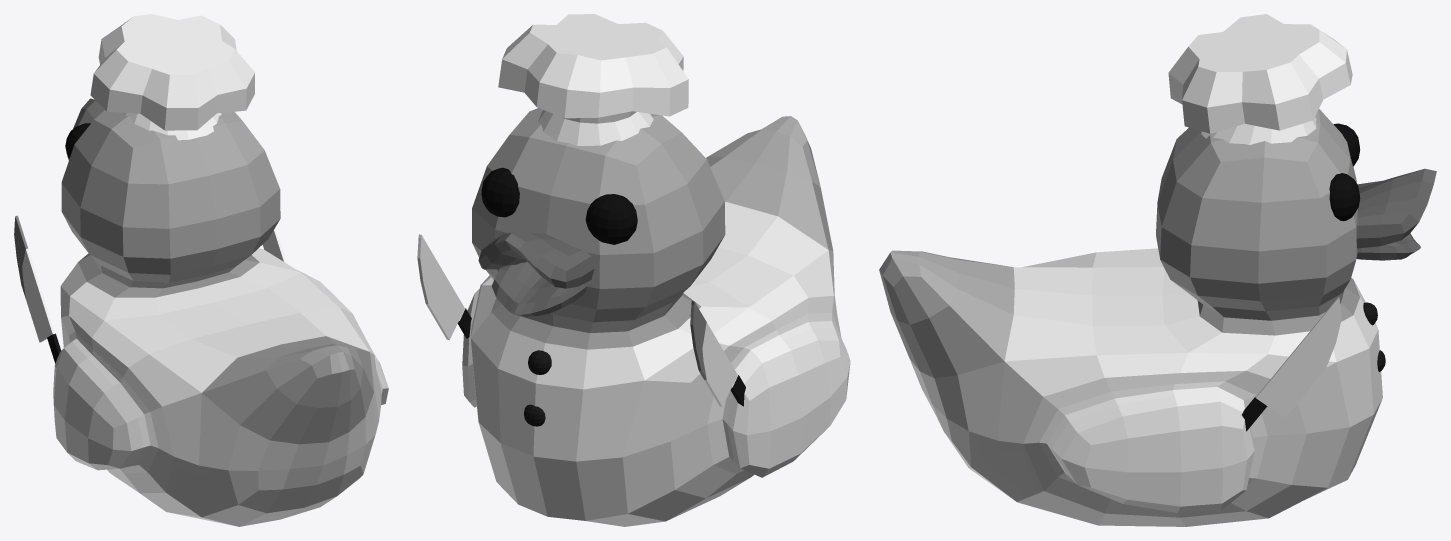
File: ChefDuck.fbx
The picture shows the model from 3 angles, left to right: view 1: azimuth 30°, elevation 25°; view 2: azimuth 150°, elevation 25°; view 3: azimuth 270°, elevation 25°; orthographic projection. The views are drawn at different scales.
Visible parts, largest first — view 1: ChefDuck; view 2: ChefDuck; view 3: ChefDuck.
Boxes of the visible parts, <box> form: ChefDuck: <box>14,14,388,526</box>; ChefDuck: <box>417,14,850,526</box>; ChefDuck: <box>879,14,1436,526</box>.
Size of the model in its own units: 14.16 by 20.05 by 21.83.
